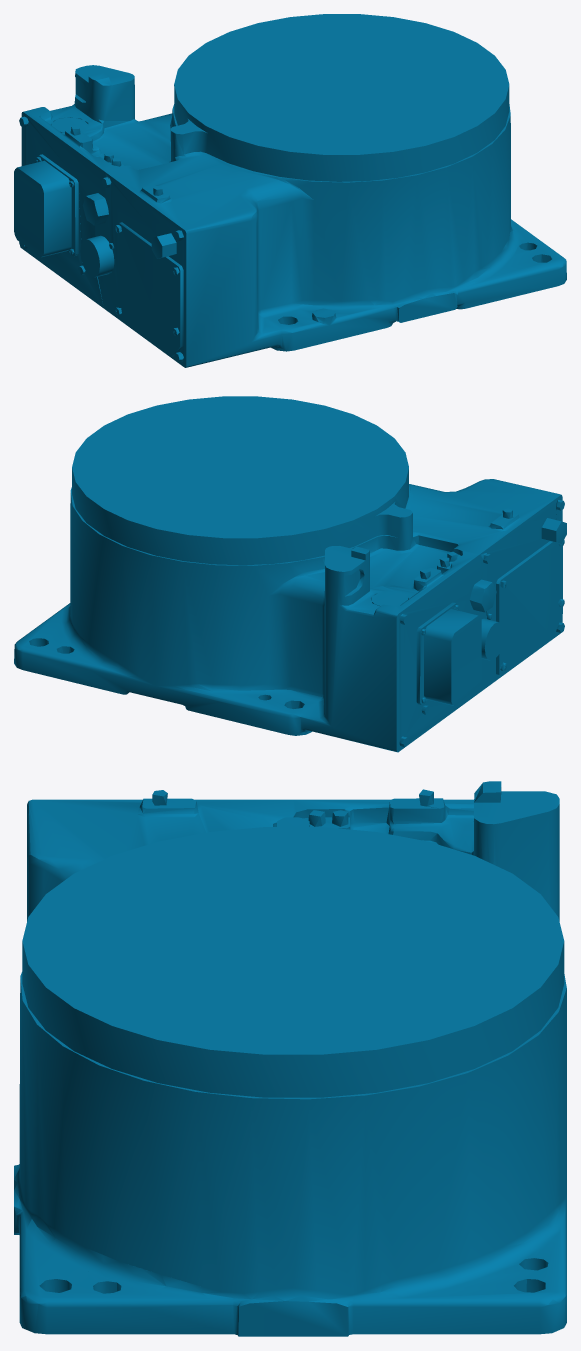
3 views of the same model, one above another, from view 1: azimuth 30°, elevation 25°; view 2: azimuth 150°, elevation 25°; view 3: azimuth 270°, elevation 25° (orthographic). The views are drawn at different scales.
Parts seen in each view (by area): view 1: gp8l_base; view 2: gp8l_base; view 3: gp8l_base.
Boxes of the visible parts, <box> form: gp8l_base: <box>14,14,566,367</box>; gp8l_base: <box>14,396,566,752</box>; gp8l_base: <box>14,781,566,1336</box>.
Bounding box in the file's own units: 0.4281 × 0.3031 × 0.1747.
